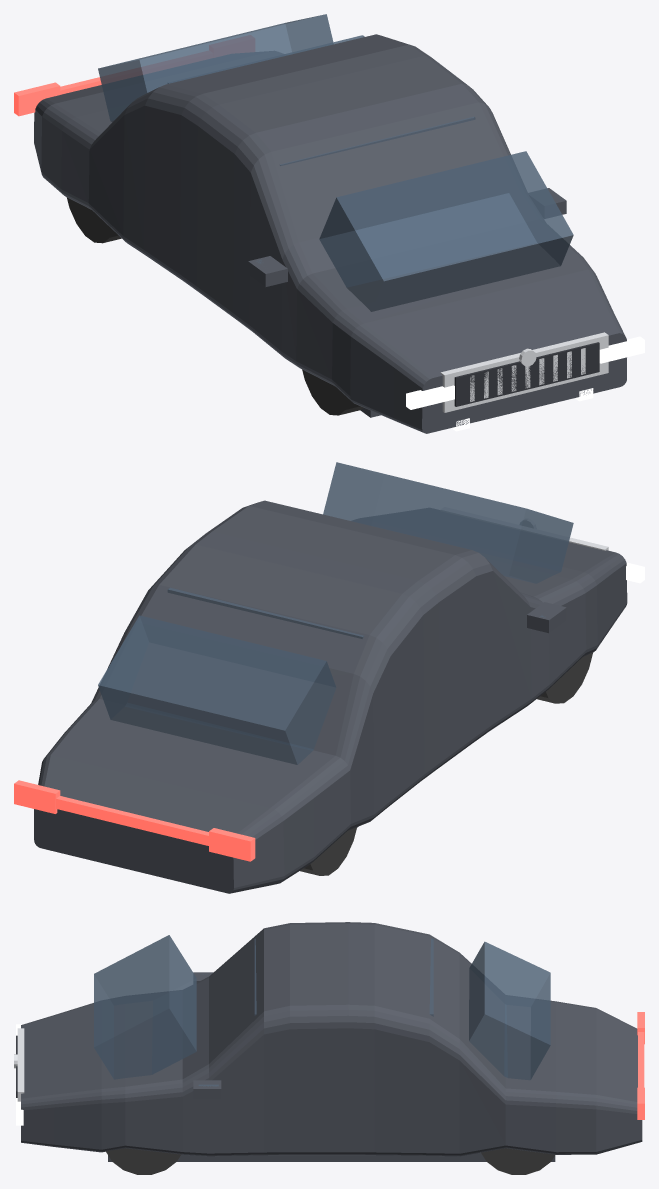
Rendered from merc_e.glb.
The picture shows the model from 3 angles, top to bottom: view 1: azimuth 30°, elevation 25°; view 2: azimuth 150°, elevation 25°; view 3: azimuth 270°, elevation 25°; orthographic projection. The views are drawn at different scales.
Visible parts, largest first — view 1: merc_e; view 2: merc_e; view 3: merc_e.
Boxes of the visible parts, left/top/right/bottom form: merc_e: left=14, top=14, right=644, bottom=433; merc_e: left=14, top=462, right=644, bottom=893; merc_e: left=14, top=922, right=644, bottom=1174.
Bounding box in the file's own units: 2.17 × 1.43 × 4.95.
